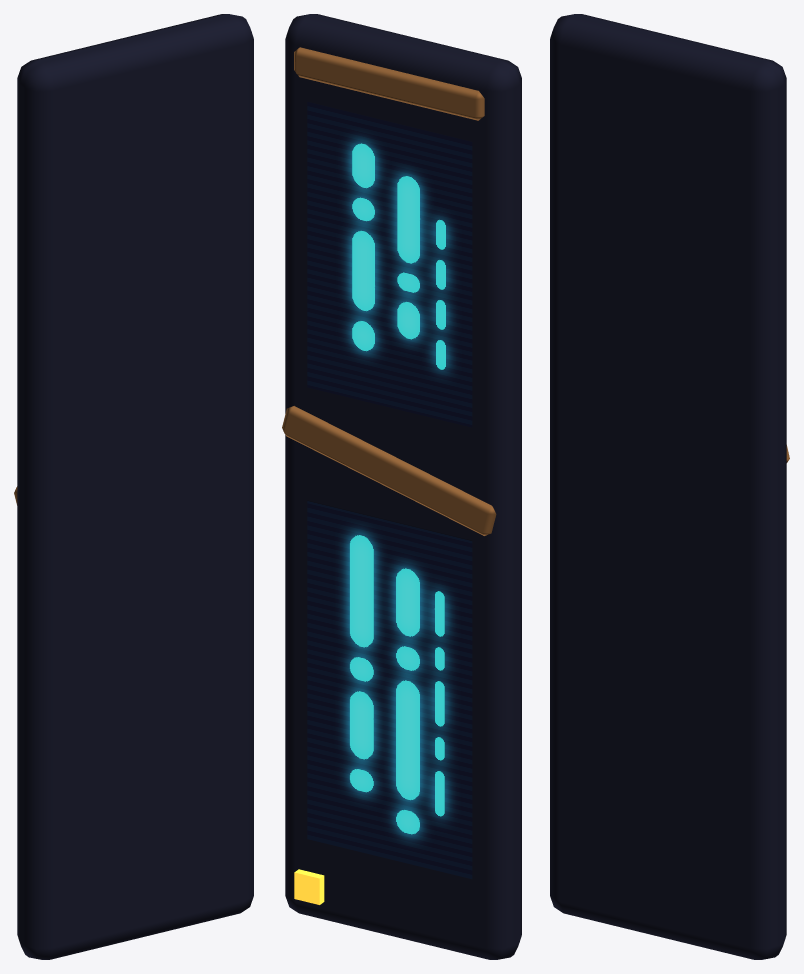
Rendered from prop.props_quarters.wall_screen_small.glb.
3 views of the same model, side by side, from view 1: azimuth 30°, elevation 25°; view 2: azimuth 150°, elevation 25°; view 3: azimuth 330°, elevation 25° (orthographic).
Visible parts, largest first — view 1: prop.props_quarters.wall_screen_small; view 2: prop.props_quarters.wall_screen_small; view 3: prop.props_quarters.wall_screen_small.
Part boxes in pixels (x1,y1,x2,y2): prop.props_quarters.wall_screen_small: (14,14,253,959); prop.props_quarters.wall_screen_small: (282,14,521,959); prop.props_quarters.wall_screen_small: (550,14,789,959).
Size of the model in its own units: 0.36 by 1.35 by 0.084.
Materials: 4 (1 with a texture image).
